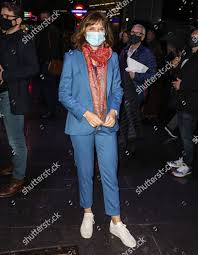mask: (86, 31, 106, 45), (1, 17, 13, 31), (130, 34, 141, 44)
